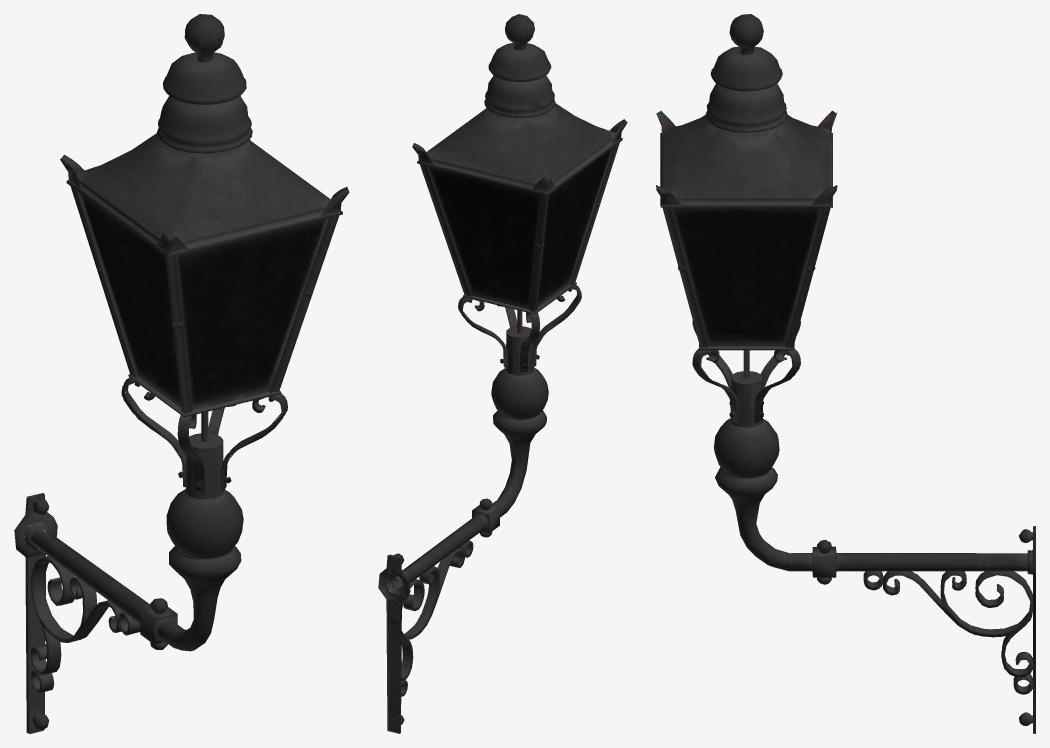
File: street_lamp_02.glb
3 renders of one model, left to right at view 1: azimuth 30°, elevation 25°; view 2: azimuth 150°, elevation 25°; view 3: azimuth 270°, elevation 25°, orthographic. The views are drawn at different scales.
Parts seen in each view (by area): view 1: street_lamp_02; view 2: street_lamp_02; view 3: street_lamp_02.
Part boxes in pixels (x1,y1,x2,y2): street_lamp_02: [14, 14, 349, 733]; street_lamp_02: [378, 14, 627, 733]; street_lamp_02: [656, 14, 1035, 733].
Bounding box in the file's own units: 0.3847 × 1.67 × 0.8059.
3 materials, 3 textured.
